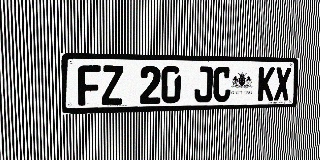0: (161, 66, 181, 104)
2: (140, 66, 161, 104)
C: (213, 66, 231, 102)
F: (78, 65, 101, 106)
J: (194, 66, 213, 103)
K: (257, 67, 275, 101)
X: (274, 67, 291, 101)
Z: (101, 65, 123, 105)
